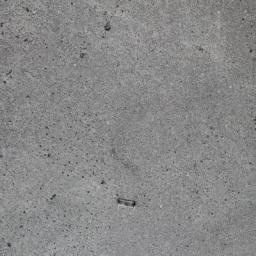FOD: (114, 195, 141, 214)
